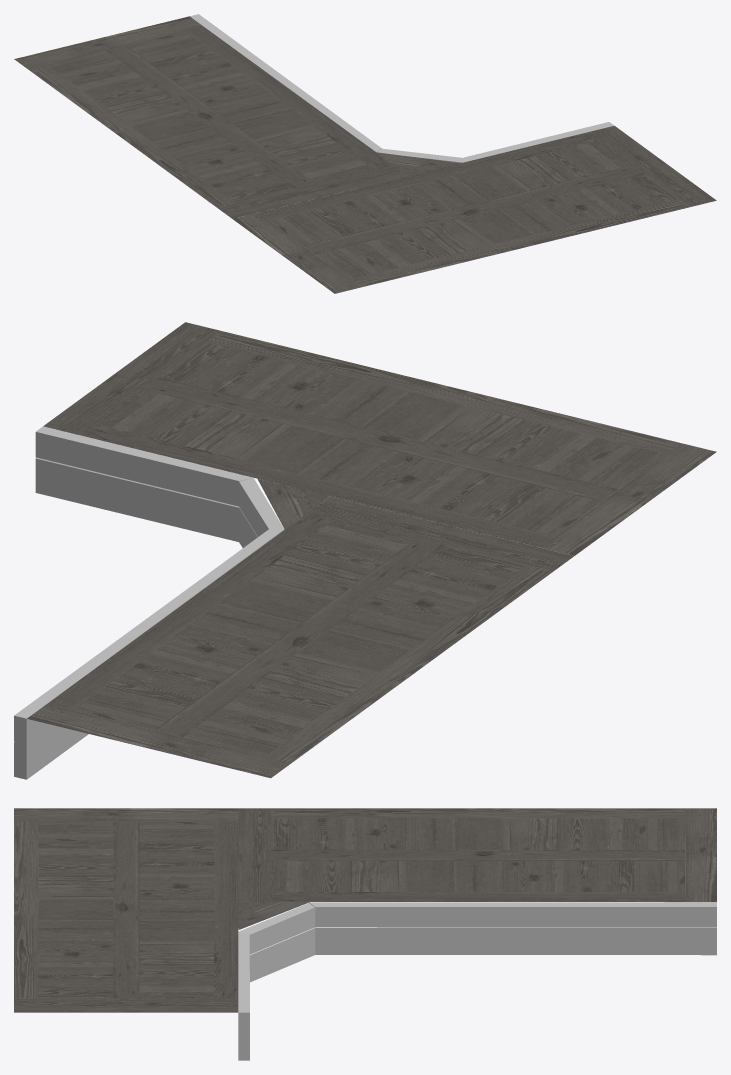
The model's file is SM_Floor01N.fbx.
3 views of the same model, one above another, from view 1: azimuth 30°, elevation 25°; view 2: azimuth 150°, elevation 25°; view 3: azimuth 270°, elevation 25° (orthographic). The views are drawn at different scales.
Visible parts, largest first — view 1: SM_Floor01N; view 2: SM_Floor01N; view 3: SM_Floor01N.
Part boxes in pixels (x1=…): SM_Floor01N: x1=14, y1=14, x2=716, y2=293; SM_Floor01N: x1=14, y1=322, x2=716, y2=779; SM_Floor01N: x1=14, y1=808, x2=716, y2=1060.
Bounding box in the file's own units: 254 × 369 × 27.87.
